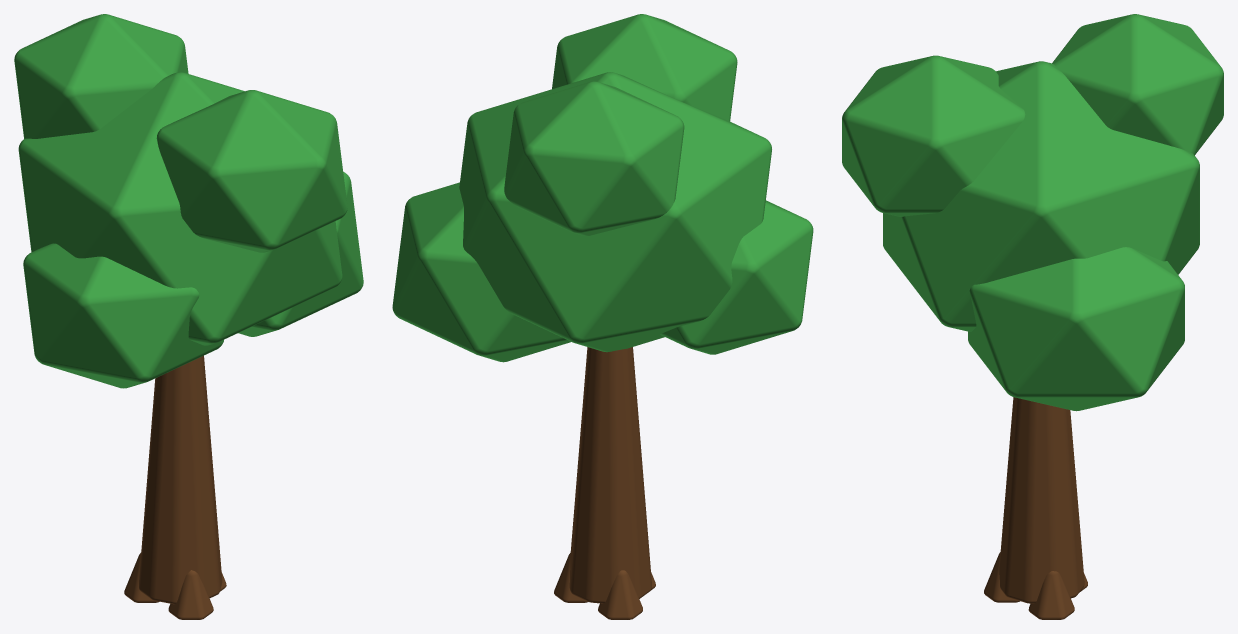
Rendered from tree1.glb.
3 renders of one model, left to right at view 1: azimuth 30°, elevation 25°; view 2: azimuth 150°, elevation 25°; view 3: azimuth 270°, elevation 25°, orthographic.
Parts seen in each view (by area): view 1: Tree; view 2: Tree; view 3: Tree.
Boxes of the visible parts, x1,y1,x2,y2 form: Tree: (14, 14, 363, 619); Tree: (392, 14, 813, 619); Tree: (842, 14, 1223, 619).
Size of the model in its own units: 3.55 by 5.34 by 3.25.
